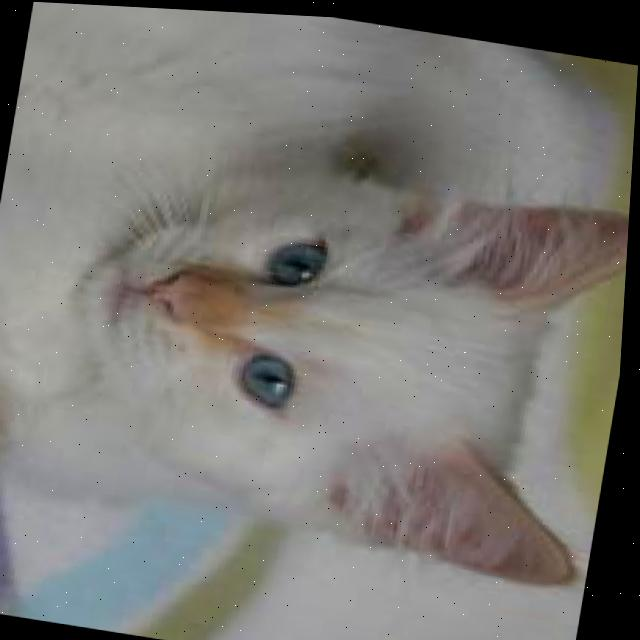Ragdoll: (0, 0, 640, 622)
